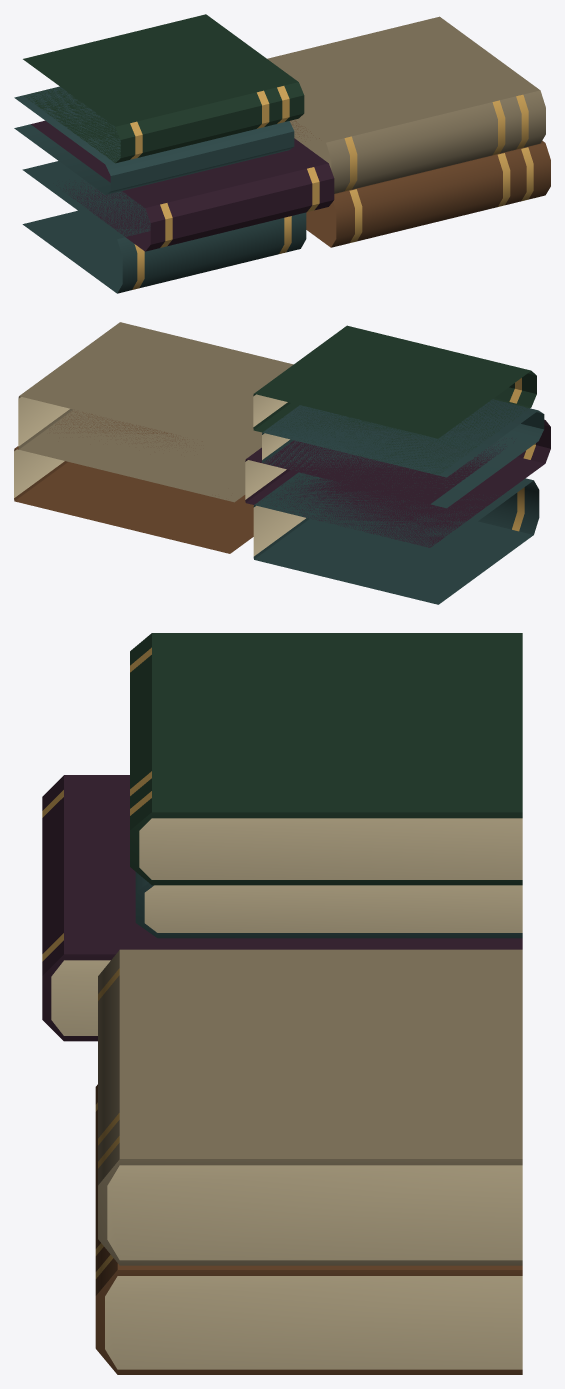
Rendered from bookrow_short_1.glb.
The picture shows the model from 3 angles, top to bottom: view 1: azimuth 30°, elevation 25°; view 2: azimuth 150°, elevation 25°; view 3: azimuth 270°, elevation 25°; orthographic projection. The views are drawn at different scales.
Visible parts, largest first — view 1: bookrow_short_1; view 2: bookrow_short_1; view 3: bookrow_short_1.
Part boxes in pixels (x1=…): bookrow_short_1: x1=14, y1=14, x2=550, y2=293; bookrow_short_1: x1=14, y1=322, x2=550, y2=604; bookrow_short_1: x1=42, y1=633, x2=522, y2=1374.
Bounding box in the file's own units: 0.4739 × 0.1736 × 0.2289.
